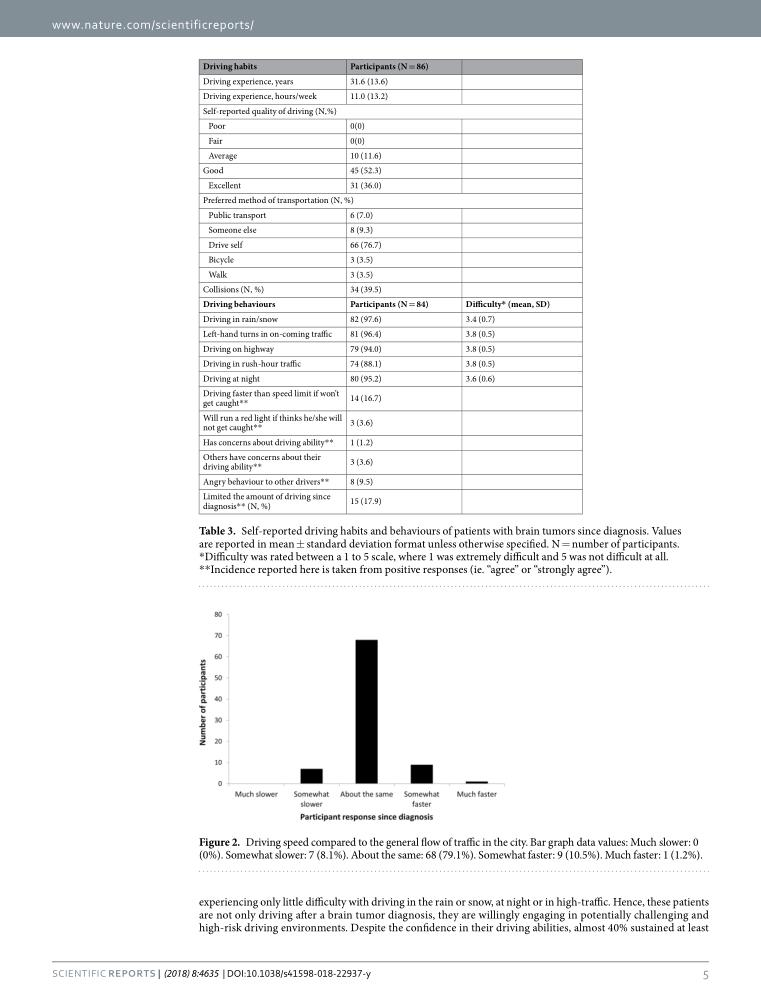table: (202, 60, 549, 512)
